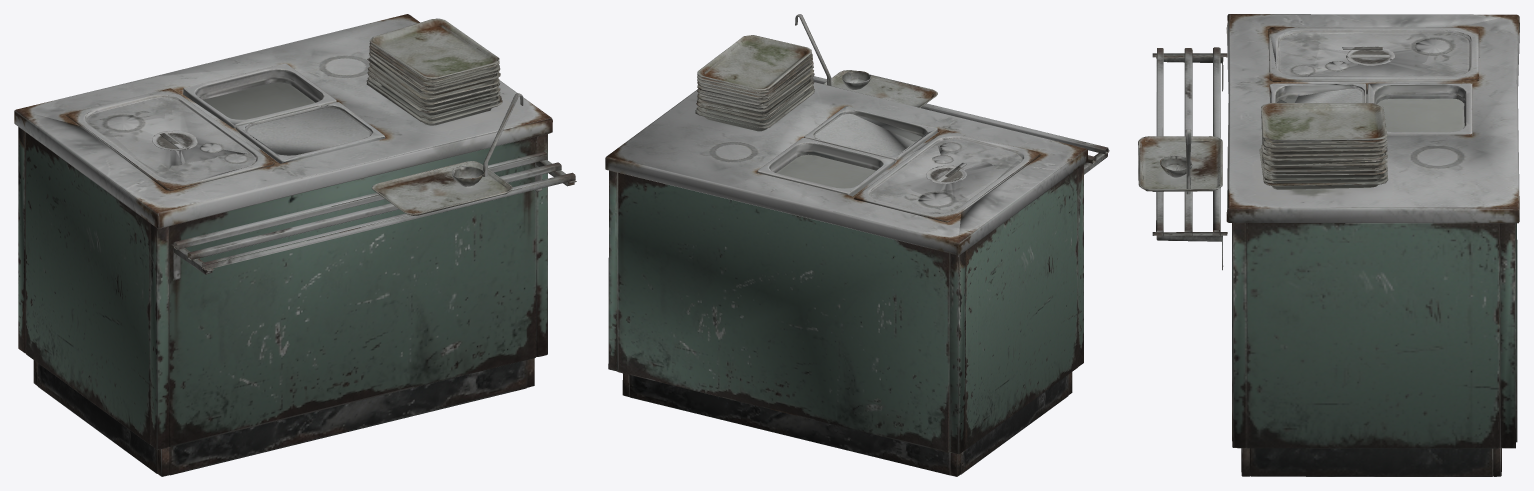
The model's file is silo81_counter.glb.
3 renders of one model, left to right at view 1: azimuth 30°, elevation 25°; view 2: azimuth 150°, elevation 25°; view 3: azimuth 270°, elevation 25°, orthographic. The views are drawn at different scales.
Bounding box in the file's own units: 0.9497 × 0.7417 × 0.7847.
1 material, 1 textured.
